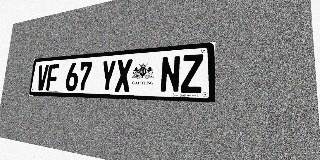6: (65, 62, 79, 91)
7: (77, 61, 92, 91)
F: (46, 64, 59, 91)
N: (160, 55, 181, 93)
V: (36, 65, 49, 90)
X: (114, 59, 132, 92)
Y: (99, 60, 116, 92)
Z: (180, 54, 203, 93)
